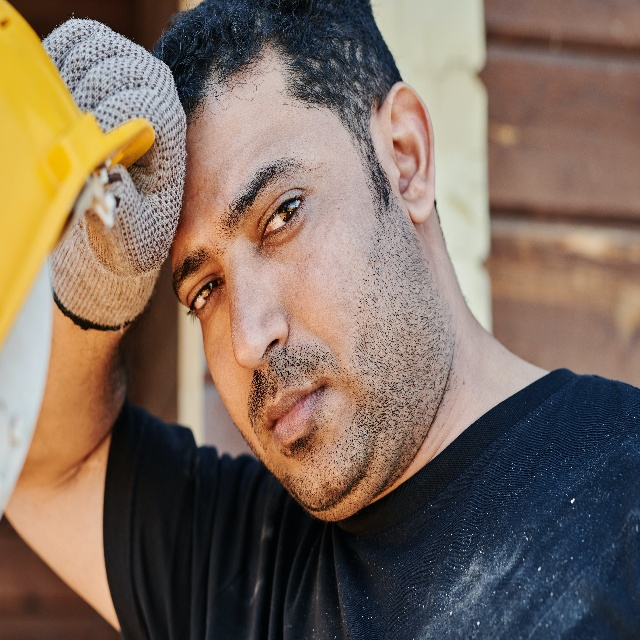Guantes: (42, 19, 186, 332)
